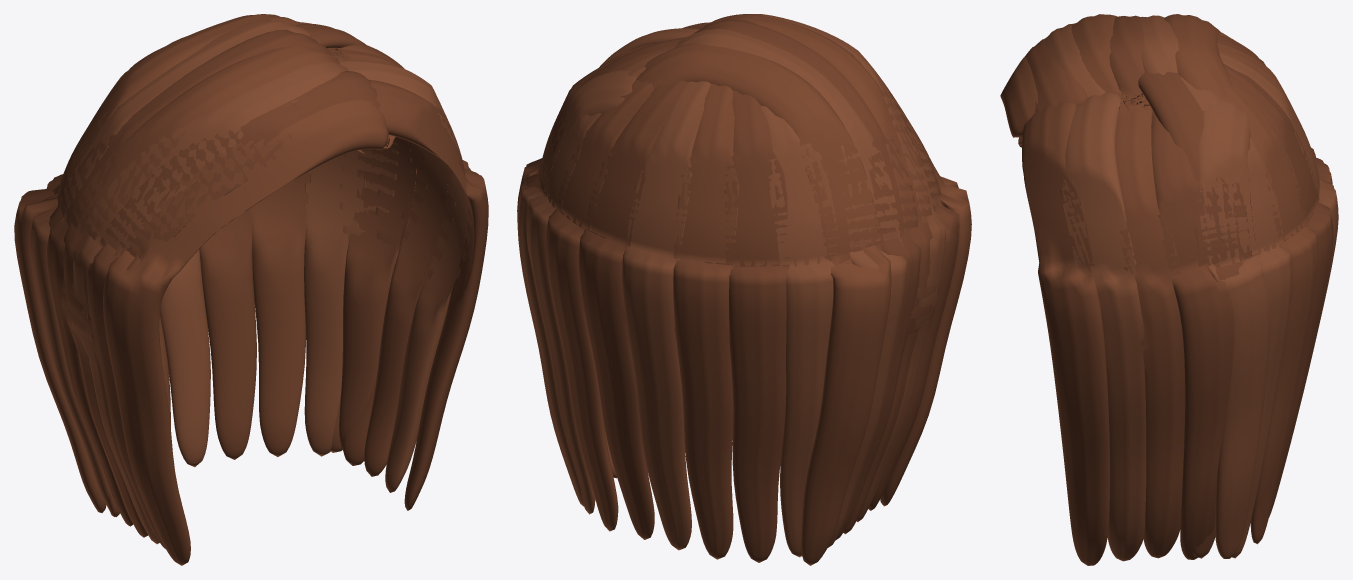
The model's file is Feminine-straight-beanie252-hair.glb.
3 renders of one model, left to right at view 1: azimuth 30°, elevation 25°; view 2: azimuth 150°, elevation 25°; view 3: azimuth 270°, elevation 25°, orthographic.
Parts seen in each view (by area): view 1: 226 hair / Hair / sculpted 0.001, 226 hair / Hair / sculpted 1.002, 226 hair / Hair / sculpted 2.001; view 2: 226 hair / Hair / sculpted 0.001, 226 hair / Hair / sculpted 2.001, 226 hair / Hair / sculpted 1.002; view 3: 226 hair / Hair / sculpted 1.002, 226 hair / Hair / sculpted 2.001, 226 hair / Hair / sculpted 0.001.
Part boxes in pixels (x1,y1,x2,y2): 226 hair / Hair / sculpted 0.001: [14, 14, 455, 565]; 226 hair / Hair / sculpted 1.002: [47, 23, 488, 548]; 226 hair / Hair / sculpted 2.001: [30, 19, 471, 544]; 226 hair / Hair / sculpted 0.001: [545, 14, 971, 565]; 226 hair / Hair / sculpted 2.001: [517, 14, 946, 557]; 226 hair / Hair / sculpted 1.002: [517, 14, 959, 562]; 226 hair / Hair / sculpted 1.002: [1019, 15, 1333, 565]; 226 hair / Hair / sculpted 2.001: [1043, 15, 1338, 561]; 226 hair / Hair / sculpted 0.001: [1000, 14, 1332, 558].
Bounding box in the file's own units: 1.02 × 1.21 × 0.7752.
